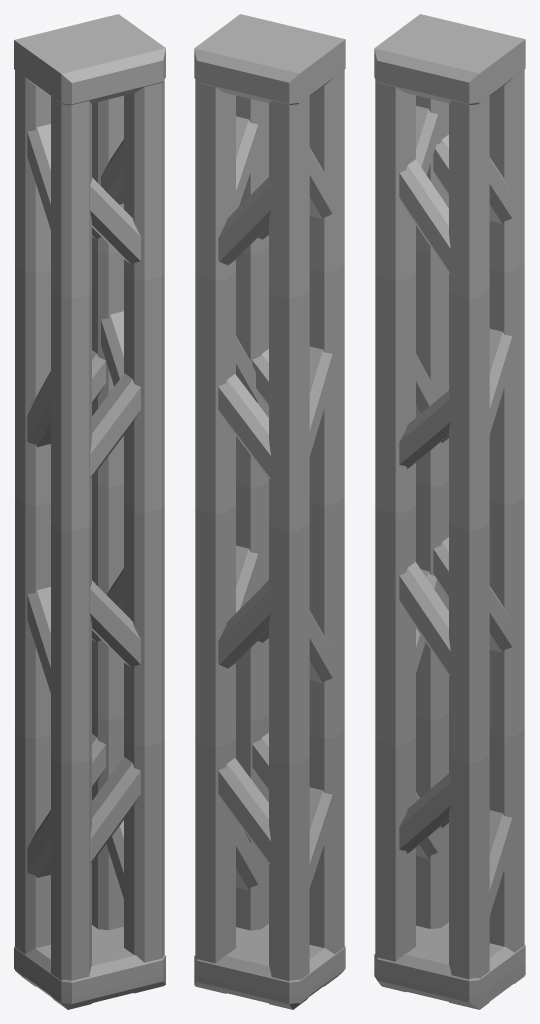
Rendered from Scalfholding_Thin.fbx.
3 views of the same model, side by side, from view 1: azimuth 30°, elevation 25°; view 2: azimuth 150°, elevation 25°; view 3: azimuth 330°, elevation 25° (orthographic).
Visible parts, largest first — view 1: Scaffold7; view 2: Scaffold7; view 3: Scaffold7.
Boxes of the visible parts, x1=… form: Scaffold7: x1=14, y1=14, x2=165, y2=1009; Scaffold7: x1=194, y1=14, x2=345, y2=1009; Scaffold7: x1=374, y1=14, x2=525, y2=1009.
Size of the model in its own units: 0.8415 by 7.14 by 0.7564.
